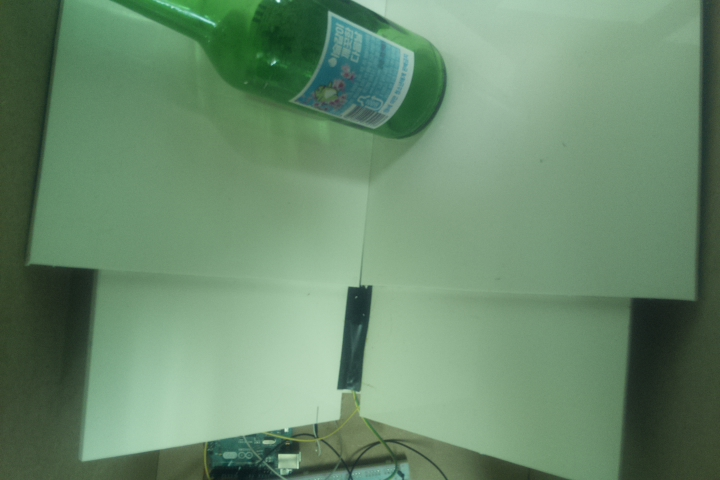soju: (107, 1, 450, 140)
